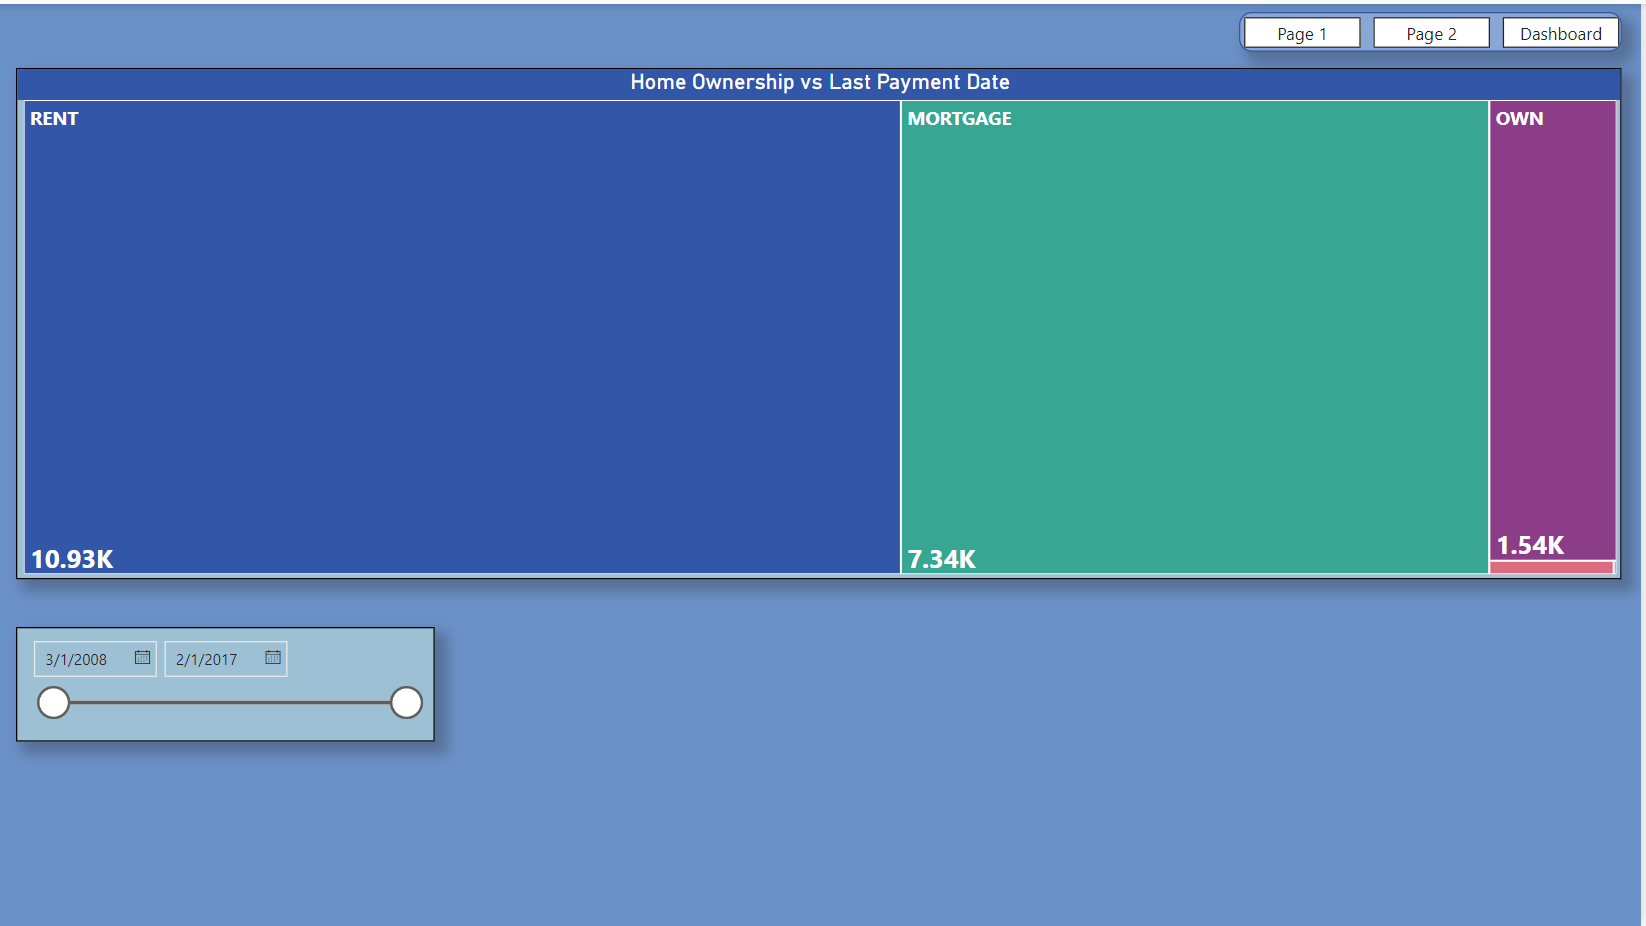

What the dashboard file says about the page in this screenshot:
{"tool":"powerbi","page":{"name":"Page 3","canvas":[1280,720],"ordinal":2},"visuals":[{"type":"treemap","title":"Home Ownership vs Last Payment Date","fields":{"Group":["lending_club.home_ownership"],"Values":["CountNonNull(lending_club.home_ownership)"]},"box":[13.1,50.4,1253.2,398.5],"z":0},{"type":"slicer","fields":{"Values":["lending_club.last_pymnt_d"]},"box":[13.1,486.2,327.2,89.7],"z":1000},{"type":"pageNavigator","box":[967.2,5.9,299.1,30.8],"z":2000}]}

Visuals, with their boxes in screenshot pixels (x1, y1, x2, y2), scaled from the page's 1280x720 canvas onto the 1646x926 screenshot:
"Home Ownership vs Last Payment Date" treemap: 17:65:1628:577
slicer - lending_club.last_pymnt_d: 17:625:438:741
pageNavigator: 1244:8:1628:47
